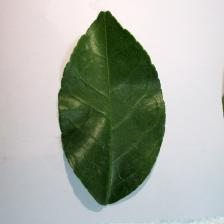healthy: (58, 16, 152, 202)
